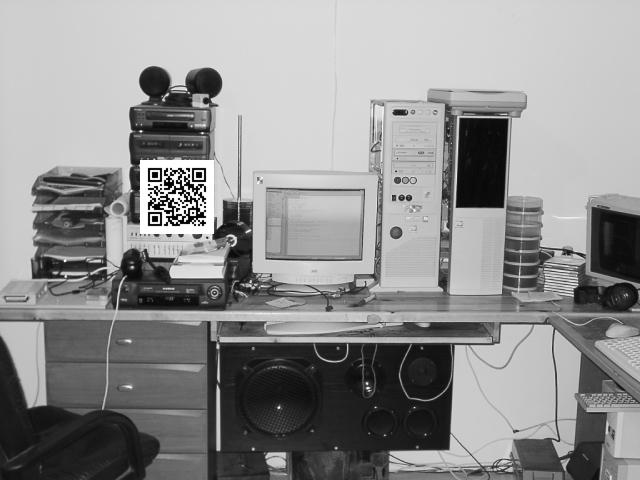qr_code: (140, 160, 214, 234)
